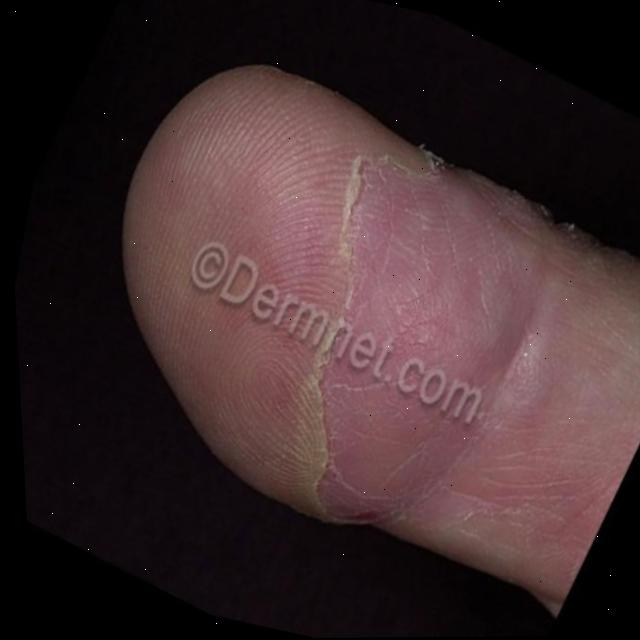Eczema: (239, 134, 604, 600)
